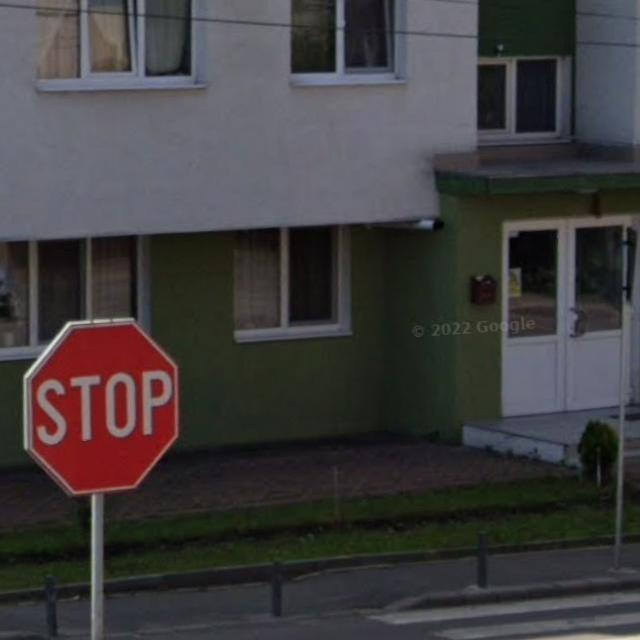prio_stop: (24, 321, 177, 492)
